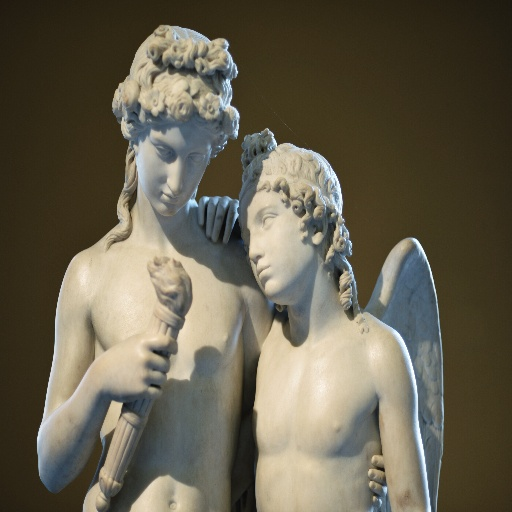hand: (95, 328, 178, 404), (192, 193, 236, 251), (367, 454, 388, 509)
